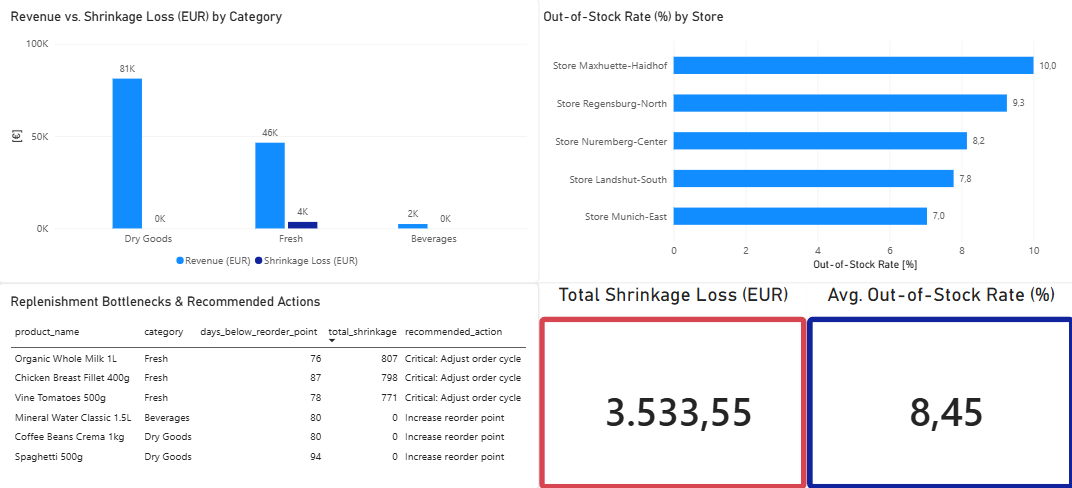

The page's visual inventory and layout, read from the dashboard file:
{"tool":"powerbi","page":{"name":"Page 1","canvas":[1920,1080],"ordinal":0},"visuals":[{"type":"cardVisual","title":"Total Shrinkage Loss (EUR)","fields":{"Data":["Sum(01_shrinkage_by_category.financial_loss_eur)"]},"box":[743.5,391.7,368.3,284.5],"z":0},{"type":"cardVisual","title":"Avg. Out-of-Stock Rate (%)","fields":{"Data":["Avg(02_store_out_of_stock_rates.oos_rate_percent)"]},"box":[1111.9,391.7,368.3,284.5],"z":1000},{"type":"clusteredBarChart","title":"Out-of-Stock Rate (%) by Store","fields":{"Category":["02_store_out_of_stock_rates.store_name"],"Y":["Sum(02_store_out_of_stock_rates.oos_rate_percent)"]},"box":[732.5,0,747.7,391.7],"z":2000},{"type":"clusteredColumnChart","title":"Revenue vs. Shrinkage Loss (EUR) by Category","fields":{"Category":["01_shrinkage_by_category.category"],"Y":["Sum(01_shrinkage_by_category.total_revenue_eur)","Sum(01_shrinkage_by_category.financial_loss_eur)"]},"box":[0,0,743.5,391.7],"z":3000},{"type":"tableEx","title":"Replenishment Bottlenecks & Recommended Actions","fields":{"Values":["03_process_bottlenecks.product_name","03_process_bottlenecks.category","03_process_bottlenecks.days_below_reorder_point","03_process_bottlenecks.total_shrinkage","03_process_bottlenecks.recommended_action"]},"box":[0,391.7,743.5,284.5],"z":4000}]}

Visuals, with their boxes on the page's 1920x1080 design canvas (x1, y1, x2, y2). These are canvas units, not pixel positions in the 1072x488 screenshot, which may show the page scaled, cropped or inside an application window:
"Total Shrinkage Loss (EUR)" cardVisual: [x1=744, y1=392, x2=1112, y2=676]
"Avg. Out-of-Stock Rate (%)" cardVisual: [x1=1112, y1=392, x2=1480, y2=676]
"Out-of-Stock Rate (%) by Store" clusteredBarChart: [x1=732, y1=0, x2=1480, y2=392]
"Revenue vs. Shrinkage Loss (EUR) by Category" clusteredColumnChart: [x1=0, y1=0, x2=744, y2=392]
"Replenishment Bottlenecks & Recommended Actions" tableEx: [x1=0, y1=392, x2=744, y2=676]
